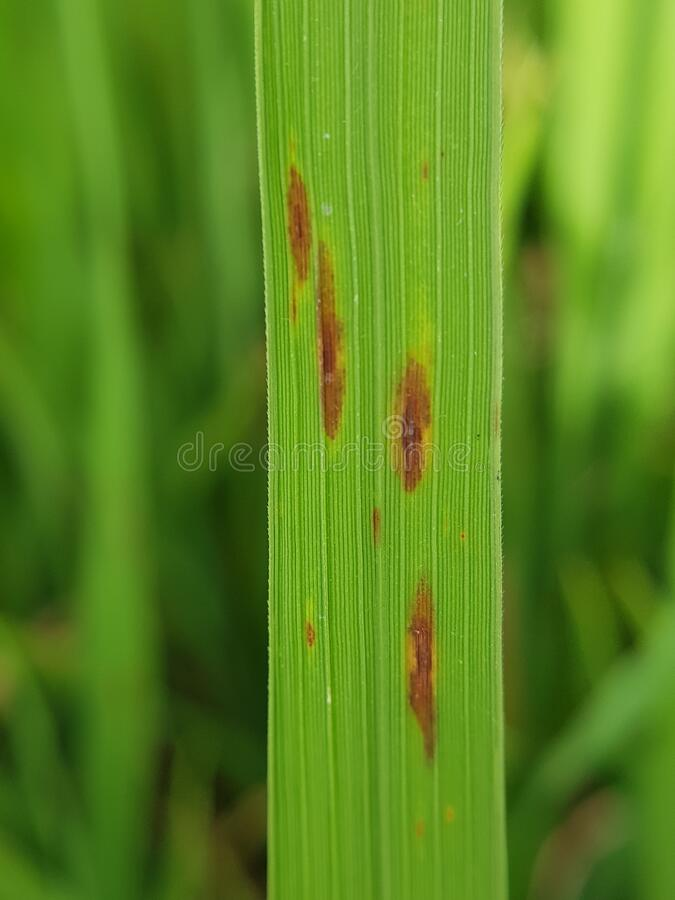Bercak Coklat: (392, 569, 453, 772), (381, 343, 445, 496), (310, 229, 352, 450), (274, 148, 315, 289)
